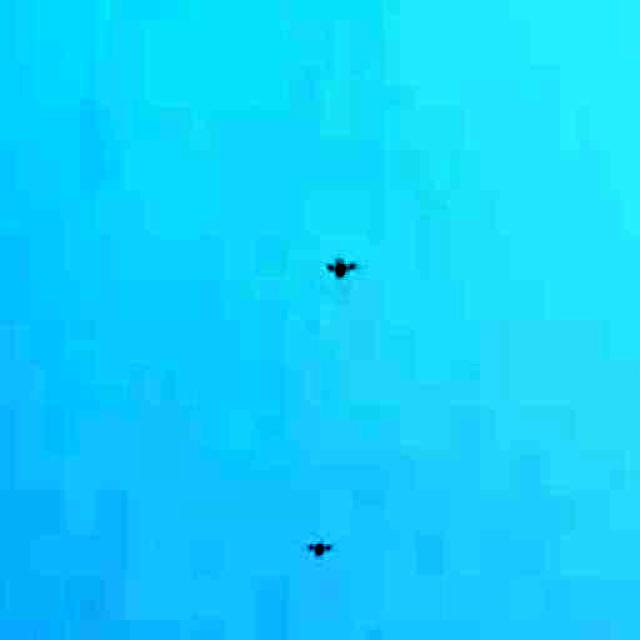bird: (325, 252, 358, 284)
